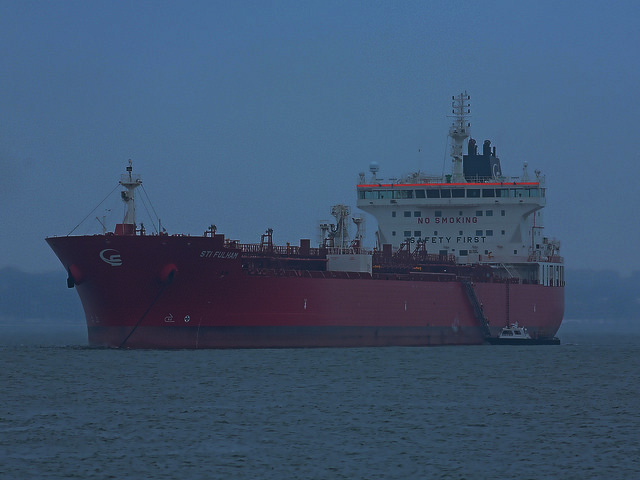boat: (486, 319, 570, 347)
tanker: (41, 81, 578, 359)
